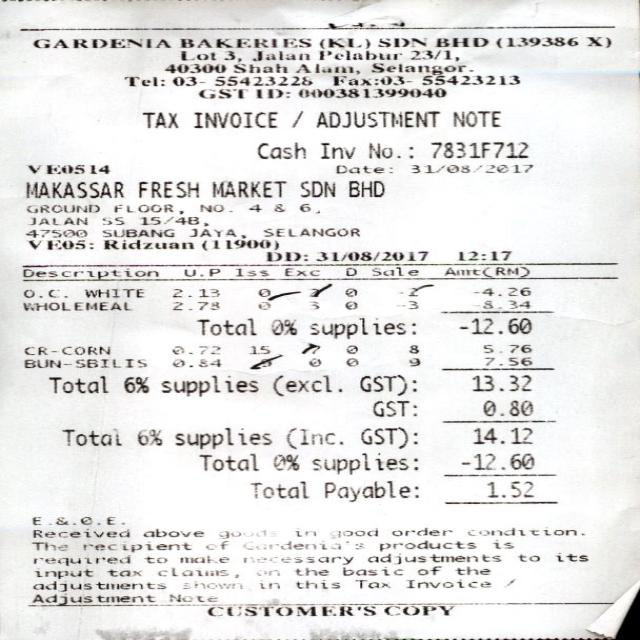text: (311, 452, 417, 474), (308, 317, 414, 338), (159, 374, 258, 396), (174, 426, 272, 448), (316, 110, 439, 127), (206, 604, 374, 616), (323, 480, 417, 501), (25, 180, 123, 197), (32, 580, 165, 592), (430, 142, 528, 158), (273, 374, 341, 396), (365, 553, 500, 563), (192, 111, 276, 127), (298, 88, 445, 97), (371, 61, 472, 74), (358, 426, 416, 448), (20, 268, 157, 277), (211, 180, 283, 197), (316, 250, 427, 261), (30, 593, 152, 603), (359, 374, 416, 395), (459, 316, 529, 333), (459, 452, 533, 468), (286, 427, 342, 448), (32, 554, 128, 566), (31, 39, 170, 47), (48, 375, 106, 393), (472, 426, 530, 444), (179, 38, 309, 46), (193, 317, 254, 334), (137, 180, 197, 197), (60, 428, 120, 445), (197, 453, 257, 470), (21, 301, 131, 310), (81, 542, 191, 551), (250, 480, 308, 497), (23, 359, 145, 367), (239, 540, 361, 548), (412, 164, 532, 172), (470, 375, 530, 391), (379, 540, 475, 550), (239, 556, 352, 564), (102, 239, 192, 249), (421, 75, 519, 84), (214, 76, 312, 85), (30, 528, 126, 537), (255, 142, 305, 159), (443, 266, 528, 276), (200, 239, 277, 250), (465, 527, 583, 534), (495, 37, 576, 47), (330, 75, 410, 85), (28, 163, 108, 173), (481, 399, 531, 415), (452, 110, 500, 126), (485, 480, 532, 496), (30, 516, 124, 524), (372, 399, 416, 416), (319, 50, 401, 59), (22, 346, 110, 354), (382, 605, 452, 615), (261, 228, 359, 235), (113, 203, 181, 213), (139, 216, 206, 226), (368, 143, 412, 158), (407, 580, 488, 588), (295, 63, 359, 73), (28, 239, 92, 249), (157, 568, 237, 576), (24, 204, 99, 212), (101, 228, 174, 236), (34, 568, 92, 578), (142, 111, 178, 127), (252, 50, 308, 60), (218, 528, 274, 538), (163, 63, 225, 72), (142, 527, 203, 536), (408, 49, 457, 60), (83, 288, 142, 297), (348, 180, 383, 195), (188, 228, 246, 237), (320, 143, 354, 158), (300, 180, 334, 195), (334, 164, 390, 173), (474, 287, 530, 296), (319, 38, 369, 48), (23, 228, 85, 236), (181, 580, 242, 588), (392, 527, 452, 535), (232, 63, 285, 72), (28, 217, 86, 225), (470, 299, 528, 307), (434, 37, 485, 46), (483, 343, 531, 352), (136, 428, 161, 445), (341, 567, 401, 574), (458, 251, 510, 259), (269, 319, 296, 334), (328, 529, 377, 537), (123, 377, 149, 392), (271, 454, 297, 469), (296, 579, 339, 588), (170, 288, 218, 296), (170, 346, 218, 354), (378, 38, 425, 46), (197, 89, 243, 97), (371, 266, 417, 274), (171, 301, 217, 309), (484, 357, 530, 365), (124, 76, 164, 85), (266, 251, 306, 260), (22, 289, 66, 297), (553, 551, 587, 561), (172, 359, 220, 366), (180, 555, 228, 562), (180, 50, 214, 59), (254, 89, 288, 98), (354, 579, 388, 588), (281, 267, 319, 275), (181, 268, 219, 276), (168, 594, 217, 600), (171, 76, 203, 85), (584, 36, 610, 47), (454, 566, 488, 574), (32, 542, 65, 550), (105, 569, 140, 576), (200, 204, 232, 211), (234, 268, 266, 275), (222, 50, 241, 61), (416, 566, 441, 574), (294, 568, 325, 574), (248, 344, 268, 353), (206, 540, 227, 548), (292, 110, 302, 126), (254, 569, 280, 575), (102, 217, 123, 224), (516, 554, 539, 560), (143, 556, 165, 562), (294, 530, 314, 536), (492, 542, 512, 548), (342, 287, 355, 296), (343, 344, 356, 352), (503, 578, 514, 587), (344, 300, 356, 308), (258, 358, 270, 366), (259, 583, 278, 588), (343, 358, 356, 365), (257, 301, 268, 309), (407, 344, 418, 352), (248, 204, 260, 211), (344, 268, 356, 275), (408, 358, 420, 365), (308, 358, 320, 365), (299, 203, 309, 211), (272, 203, 282, 211), (258, 288, 267, 296), (408, 300, 417, 308), (311, 300, 317, 308)
